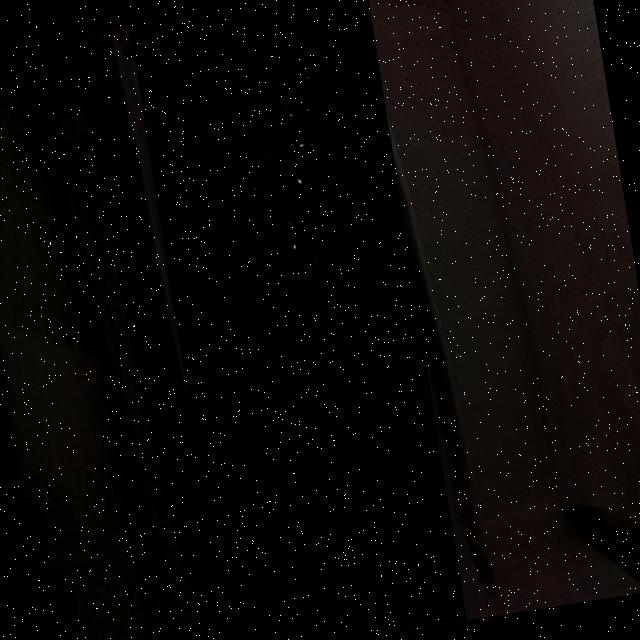bottle: (129, 0, 466, 640)
